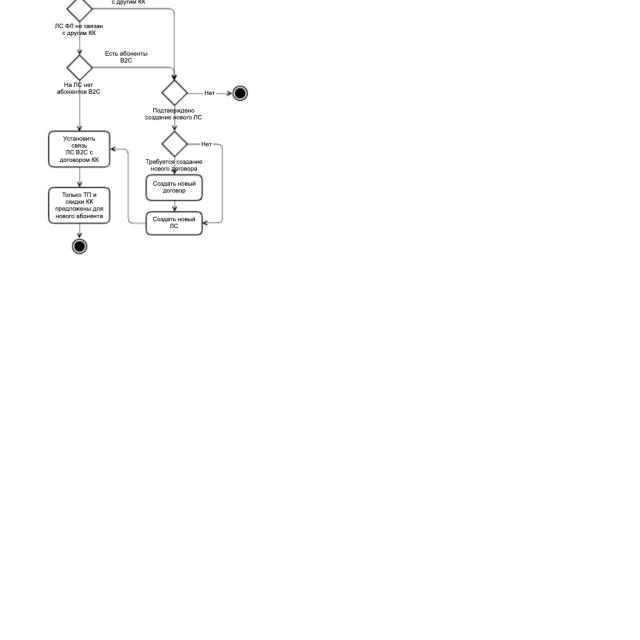arrow: (92, 7, 177, 80), (187, 142, 223, 226), (110, 146, 146, 225), (92, 66, 177, 80), (77, 81, 83, 130), (78, 22, 82, 55), (172, 104, 177, 130), (77, 168, 83, 187), (171, 156, 177, 174), (76, 223, 82, 239)
circle: (232, 86, 248, 101), (72, 239, 87, 254)
diamond: (67, 55, 93, 80), (163, 80, 187, 105), (163, 132, 187, 156)
rectangle: (49, 131, 110, 168), (49, 187, 110, 223), (146, 174, 203, 201), (146, 212, 203, 235)
text_region: (144, 106, 204, 121), (146, 158, 202, 174), (54, 22, 104, 37), (55, 81, 102, 96), (102, 49, 149, 64), (203, 88, 216, 96)
